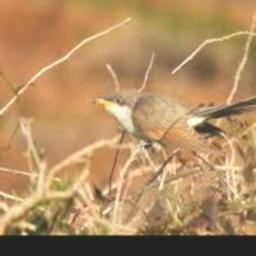Cuckoo: (90, 91, 256, 152)
